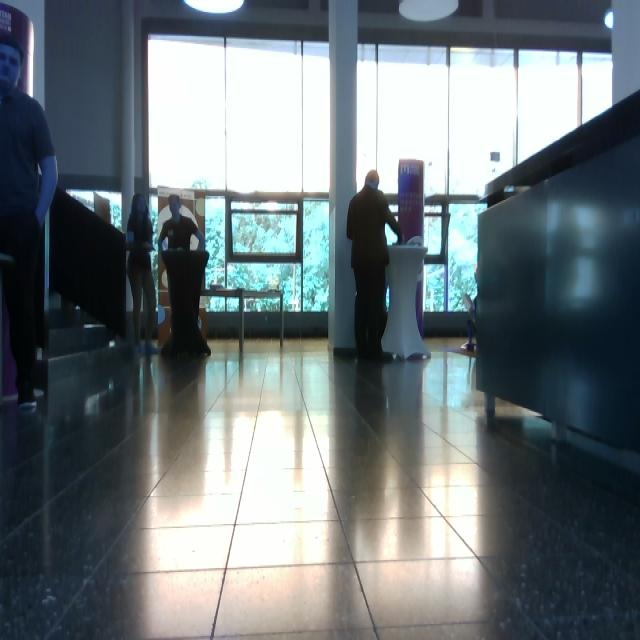light bulb: (399, 1, 459, 22), (184, 1, 245, 14), (504, 185, 531, 194), (604, 9, 614, 29)
person: (1, 32, 59, 409), (347, 169, 404, 362), (158, 195, 211, 355), (126, 193, 157, 349), (461, 262, 479, 352)
pillar: (328, 1, 359, 356), (397, 158, 426, 340)
tiled floor: (2, 335, 639, 639)
window: (147, 32, 331, 314)
